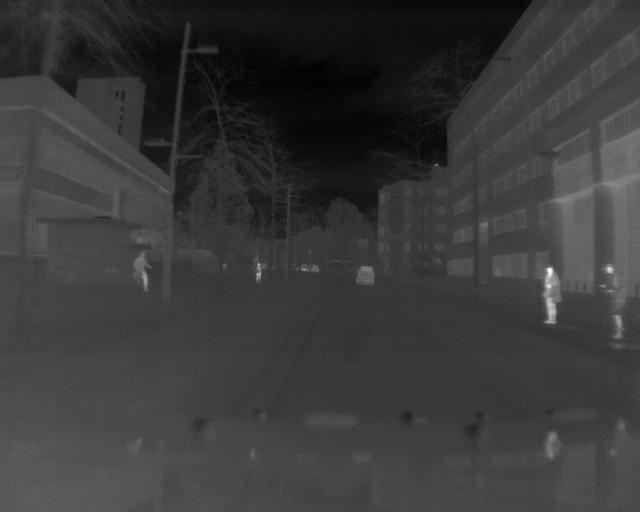person: (599, 263, 631, 343), (540, 264, 561, 327), (134, 247, 152, 295), (254, 263, 266, 287)
